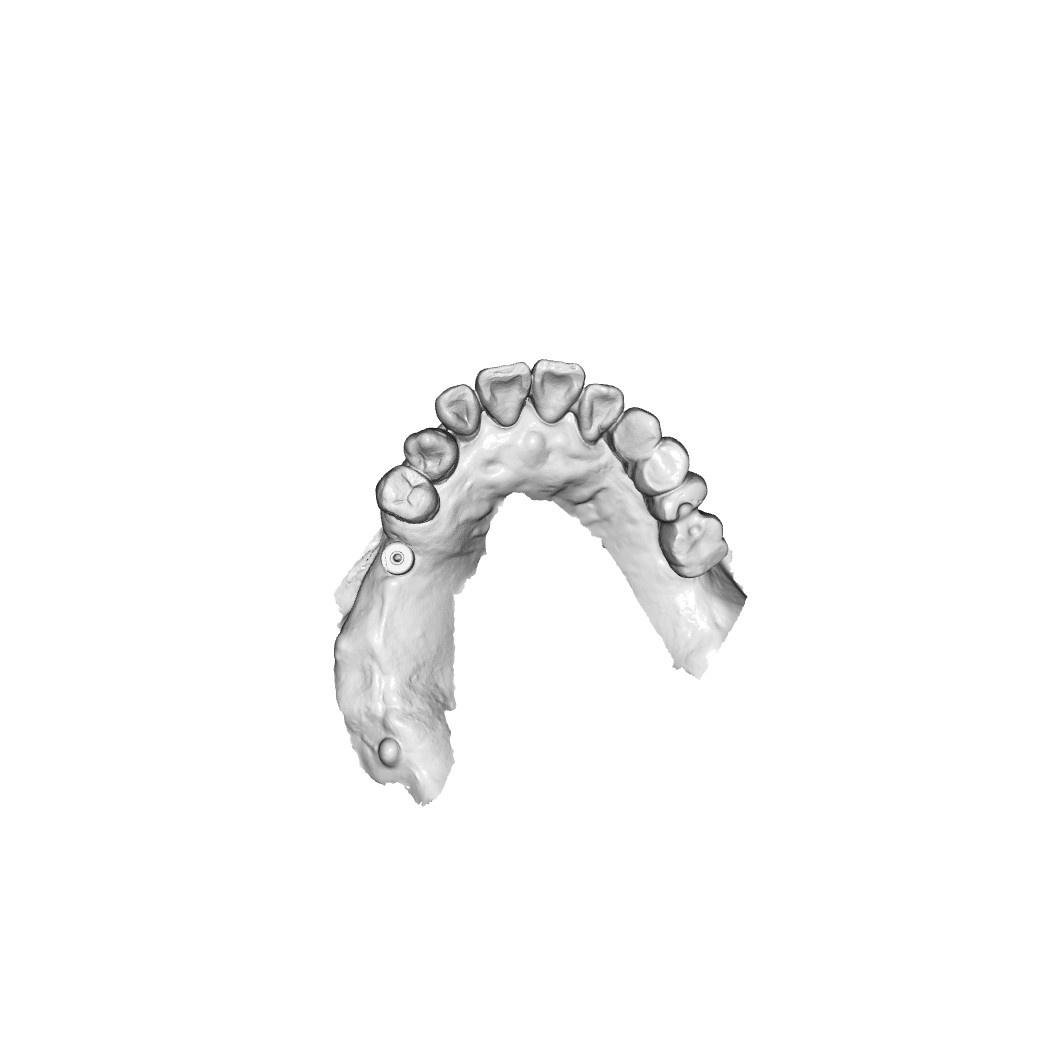canine: (605, 404, 664, 467), (401, 427, 462, 484)
implant: (380, 537, 416, 577)
incisor: (471, 361, 533, 431), (530, 357, 589, 426), (573, 381, 625, 443), (431, 384, 483, 444)
molar: (656, 508, 731, 582)
premolar: (373, 462, 445, 526), (631, 433, 695, 497), (649, 467, 709, 525)
